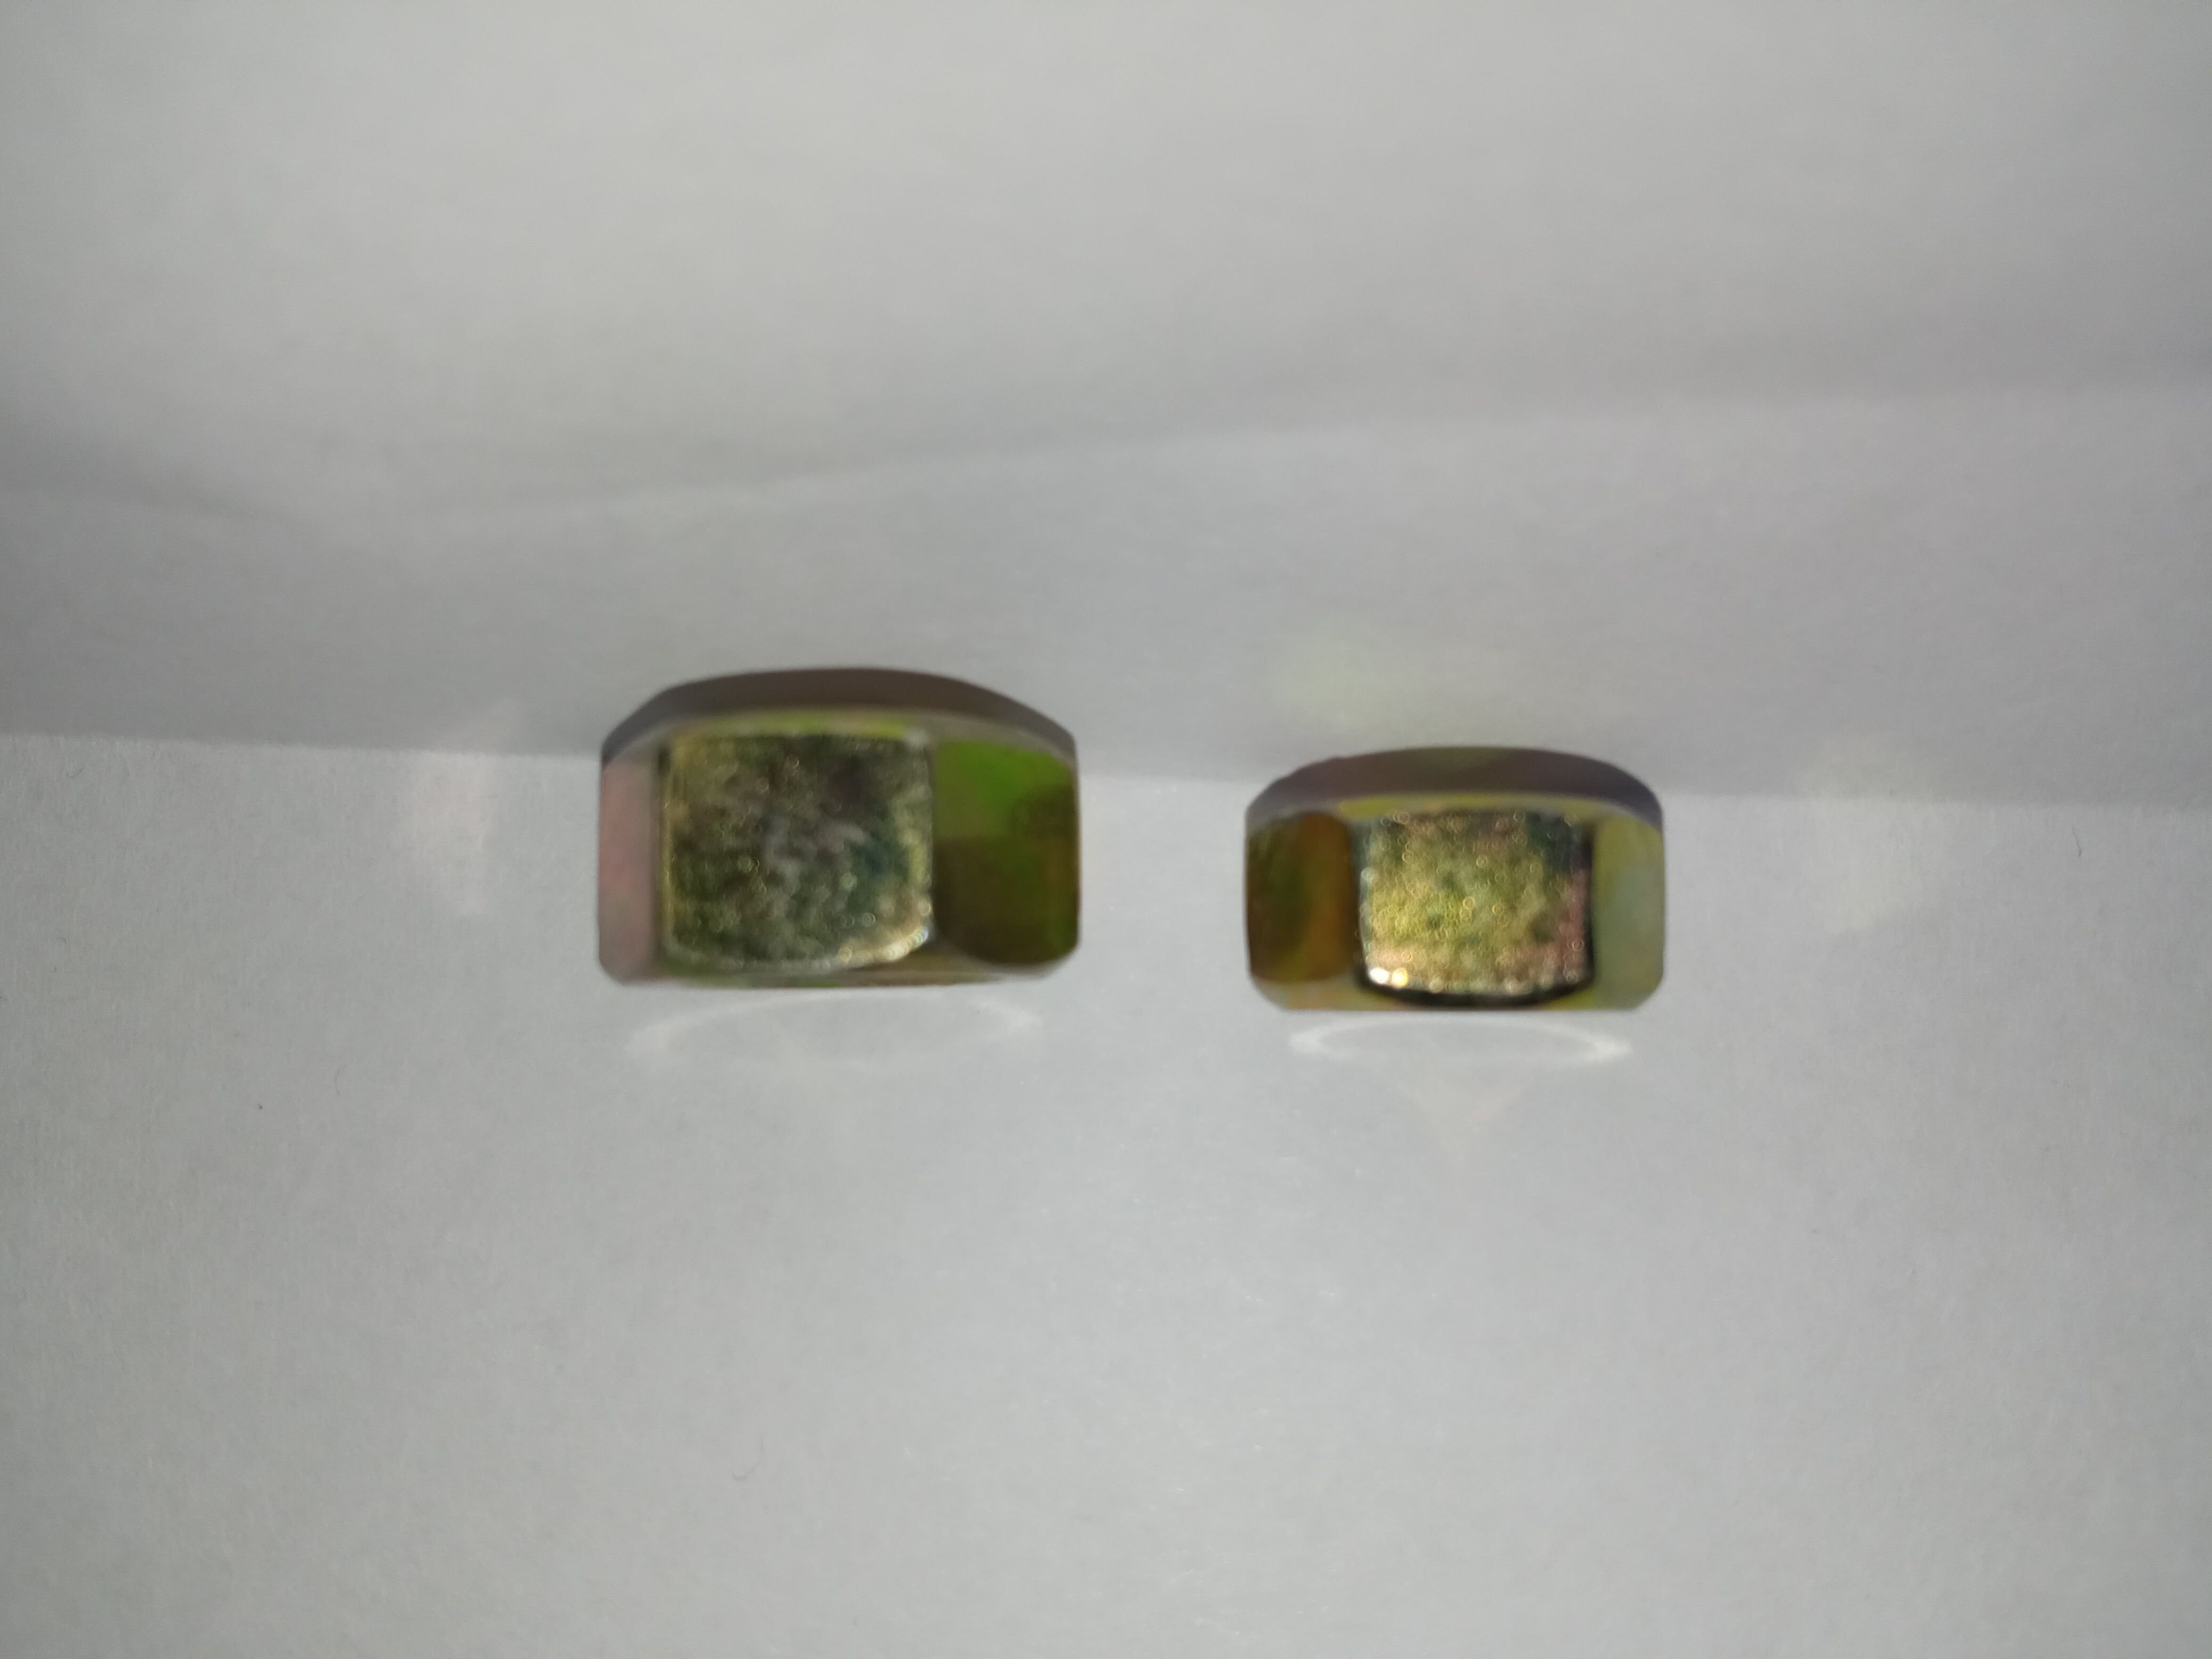m10: (585, 704, 1120, 1016)
m8: (1228, 760, 1686, 1019)
